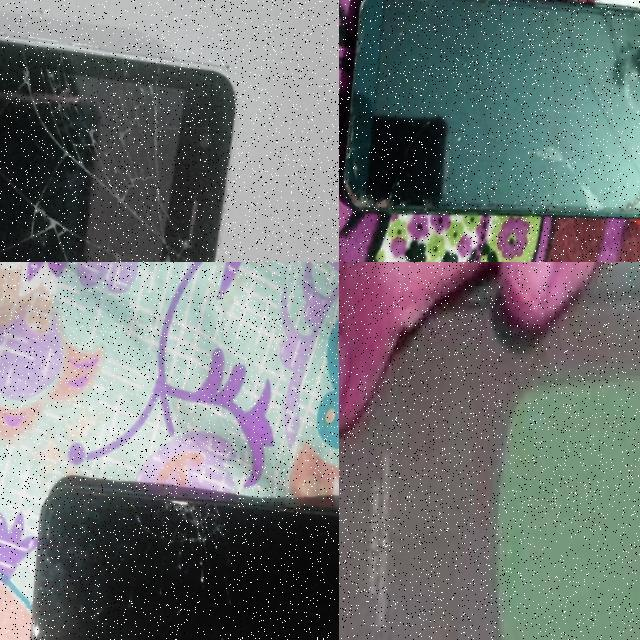screen crack: (0, 22, 242, 262), (109, 430, 265, 628), (536, 0, 640, 218), (341, 104, 452, 236), (356, 0, 449, 30)
